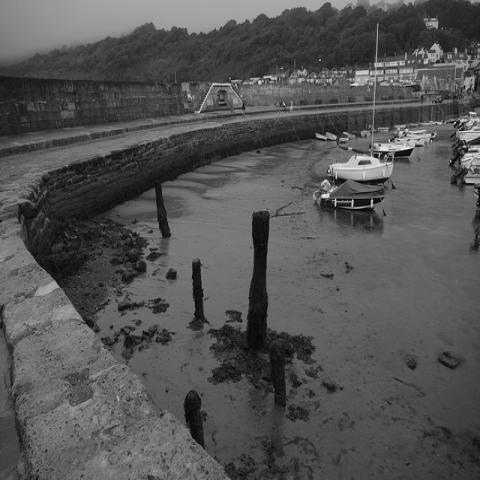car: (431, 94, 443, 103)
